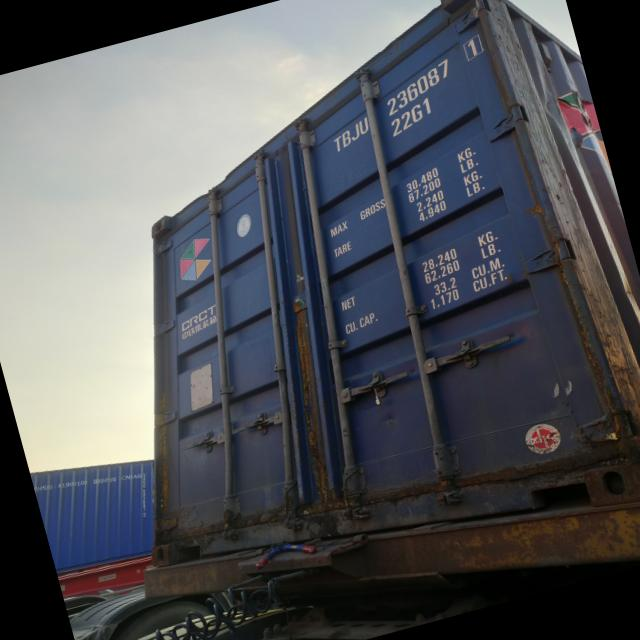seal: (366, 379, 386, 406)
